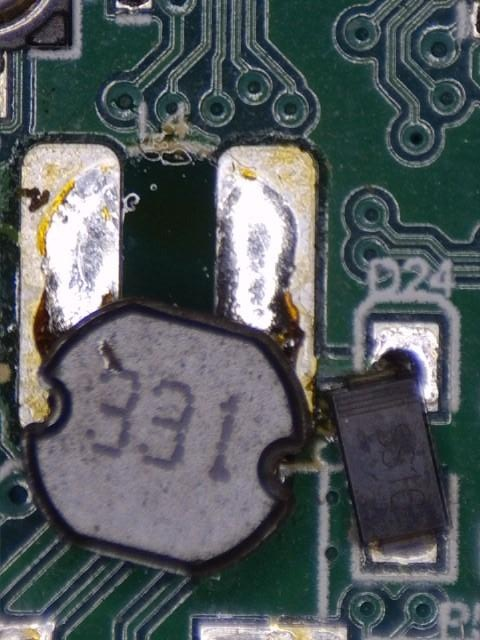pcb_defect: (18, 140, 318, 581), (327, 315, 455, 568)
